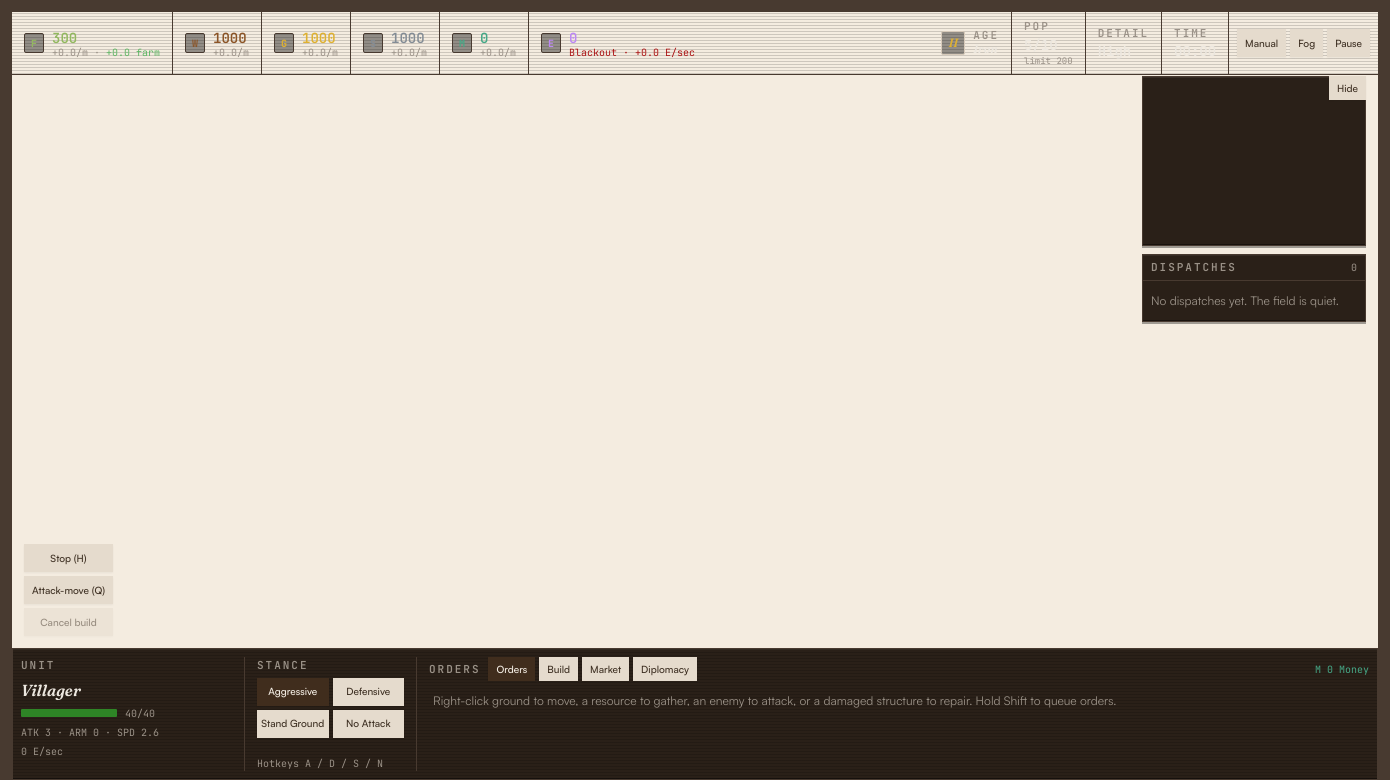
Scenario: energy grid cover: build menu › offers the Energy Distribution Center from the Age of Iron with its radius in the tooltip
Click the button "Build".
click(559, 669)  # box [539,657,578,681]
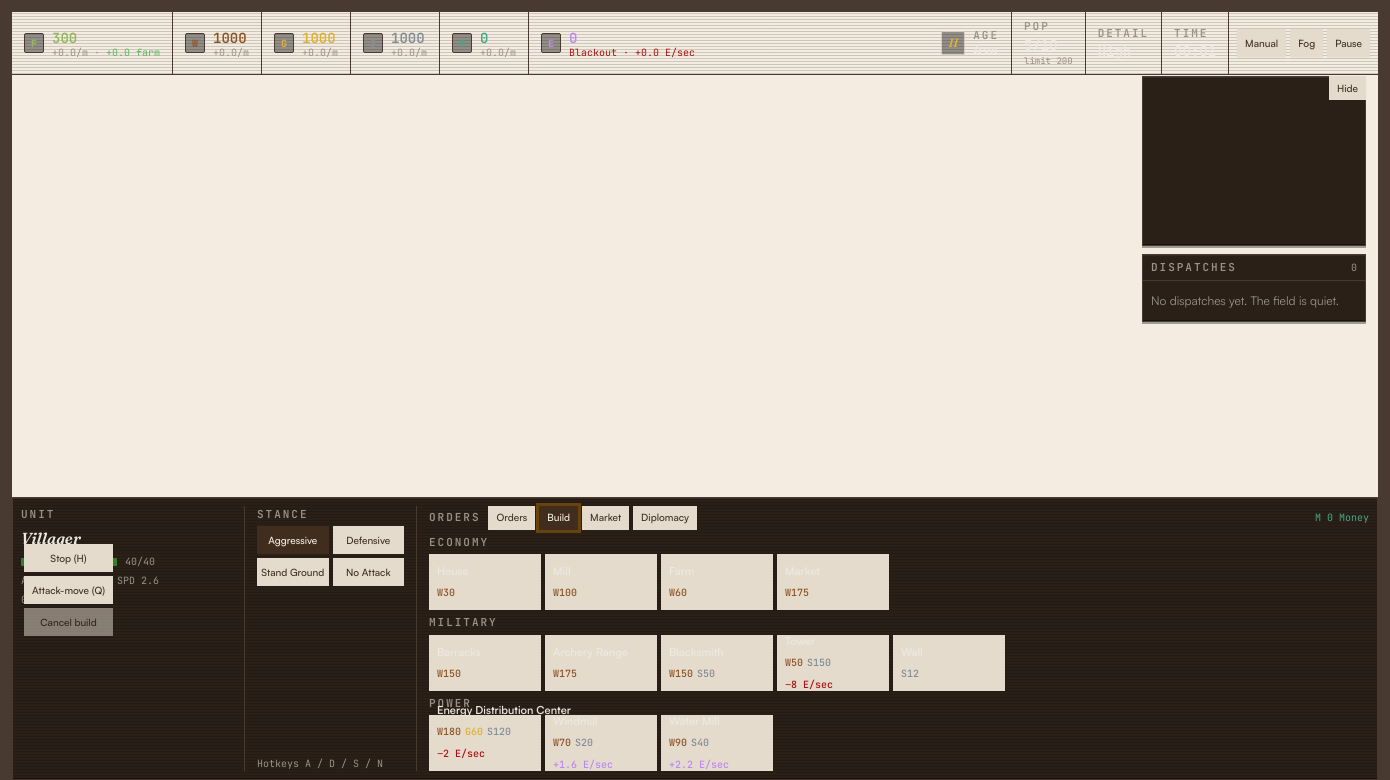
Expected: the button "Energy Distribution Center W180 G60 S120 −2 E/sec Grid 14u" is enabled, [429,715,541,771]
